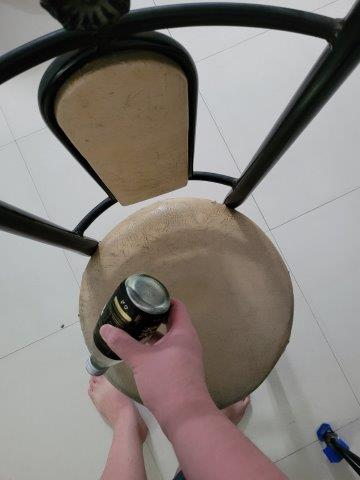botolkaca: (86, 273, 170, 378)
